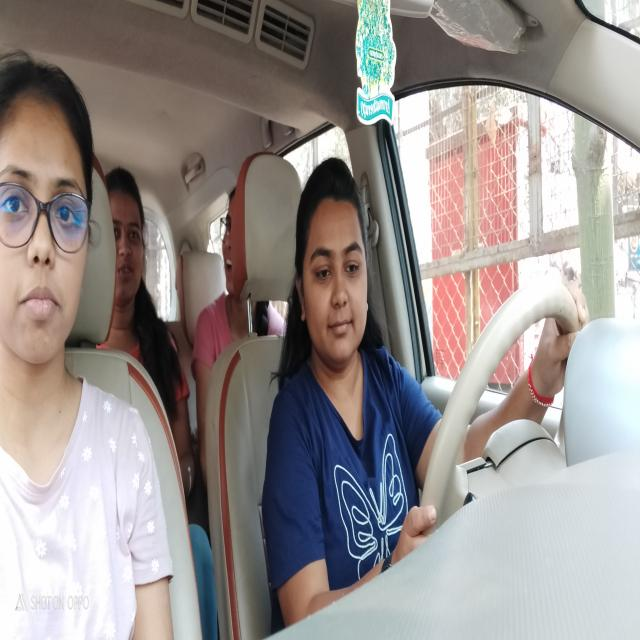person: (1, 55, 95, 375), (291, 160, 378, 380), (104, 159, 150, 316), (220, 181, 236, 304)
